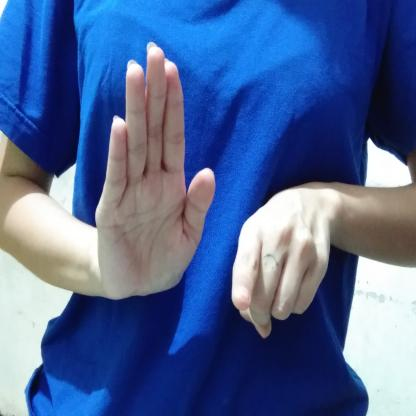stop: (86, 35, 342, 345)
